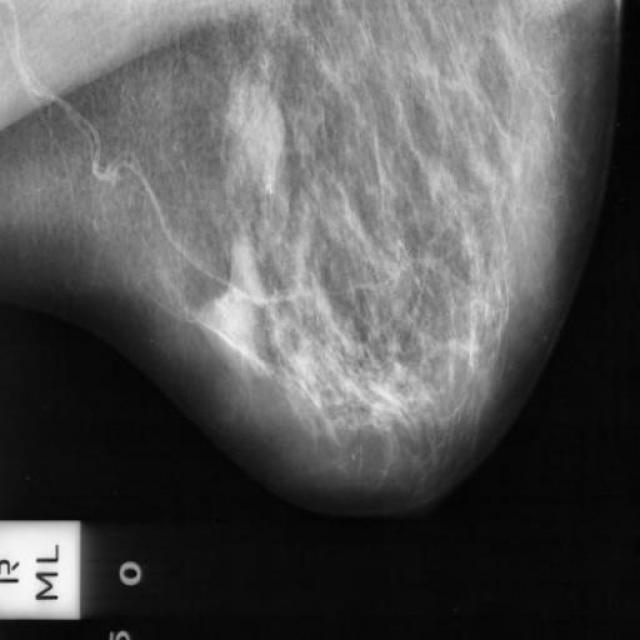cancer: (287, 358, 363, 458)
